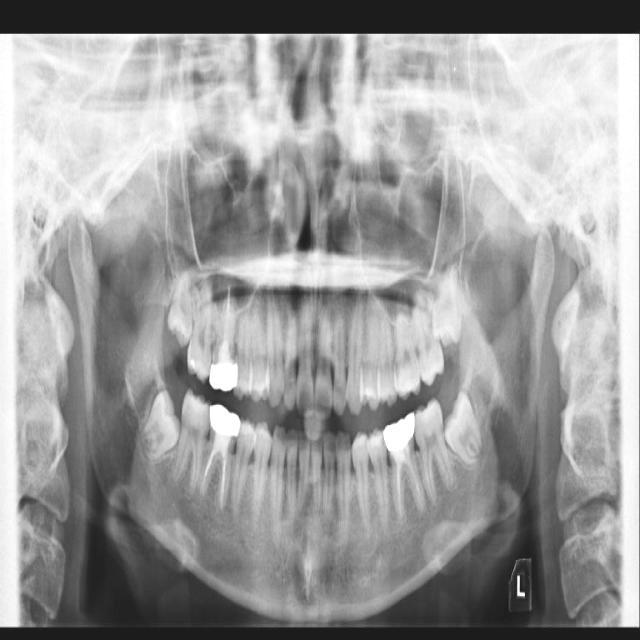Crown: (383, 412, 415, 453), (209, 351, 238, 393), (209, 403, 241, 438)
Root Canal Treatment: (221, 449, 229, 508), (202, 452, 215, 481), (225, 284, 231, 342), (396, 468, 402, 516)
impacted tooth: (441, 387, 482, 463), (138, 391, 179, 456), (433, 262, 464, 342), (169, 267, 192, 342)
